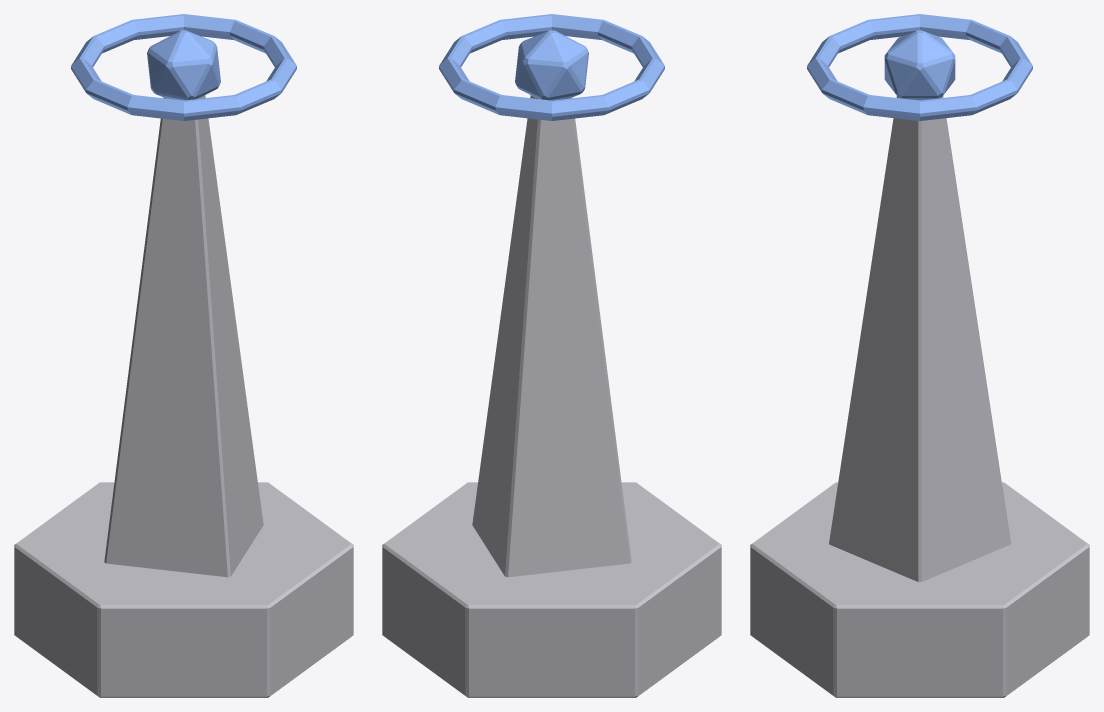
The model's file is SM_BastionPylon.fbx.
3 renders of one model, left to right at view 1: azimuth 30°, elevation 25°; view 2: azimuth 150°, elevation 25°; view 3: azimuth 270°, elevation 25°, orthographic.
Visible parts, largest first — view 1: SM_BastionPylon; view 2: SM_BastionPylon; view 3: SM_BastionPylon.
Boxes of the visible parts, bbox=[...] form: SM_BastionPylon: bbox=[14, 14, 353, 697]; SM_BastionPylon: bbox=[382, 14, 721, 697]; SM_BastionPylon: bbox=[750, 14, 1089, 697].
Size of the model in its own units: 69.28 by 156 by 79.4.
